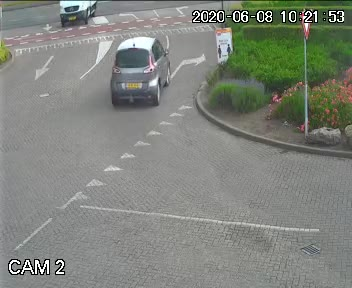car: (91, 28, 172, 112), (54, 0, 92, 35)
